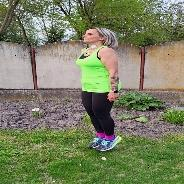high_jumps: (65, 17, 134, 158)
